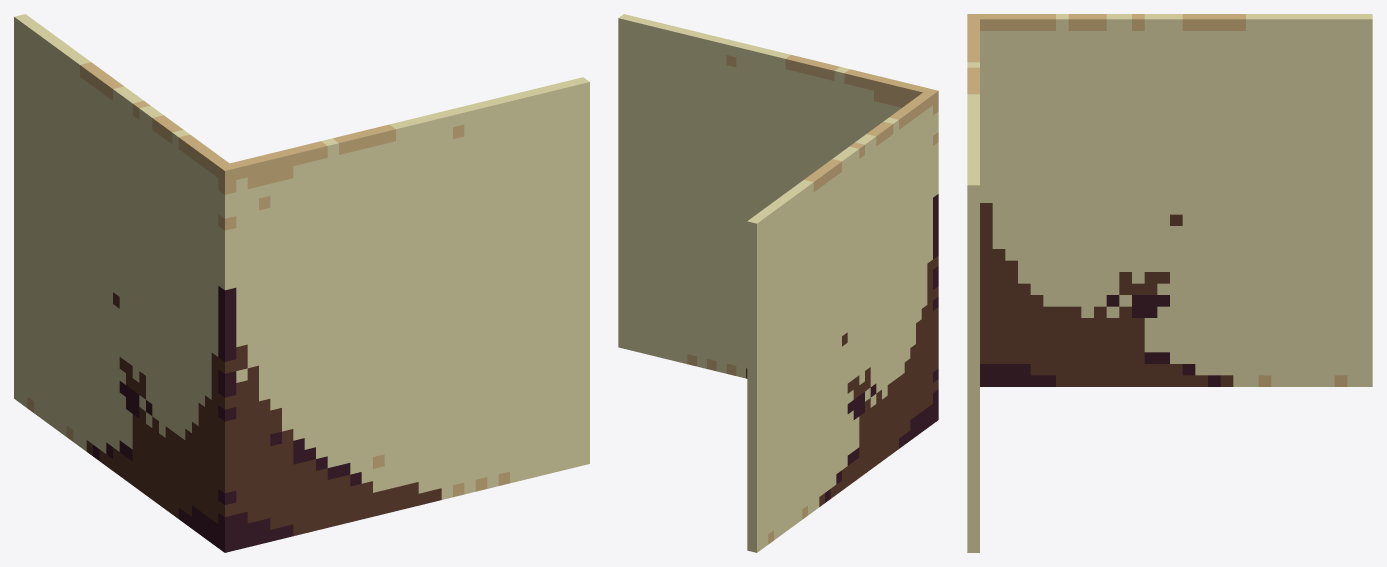
3 views of the same model, side by side, from view 1: azimuth 30°, elevation 25°; view 2: azimuth 150°, elevation 25°; view 3: azimuth 270°, elevation 25° (orthographic). The views are drawn at different scales.
Parts seen in each view (by area): view 1: test-36; view 2: test-36; view 3: test-36.
Part boxes in pixels (box(x1,y1,x2,y2)): test-36: box(14, 14, 589, 552); test-36: box(618, 14, 938, 552); test-36: box(967, 14, 1372, 552).
Size of the model in its own units: 32 by 32 by 32.
Materials: 1 (1 with a texture image).
